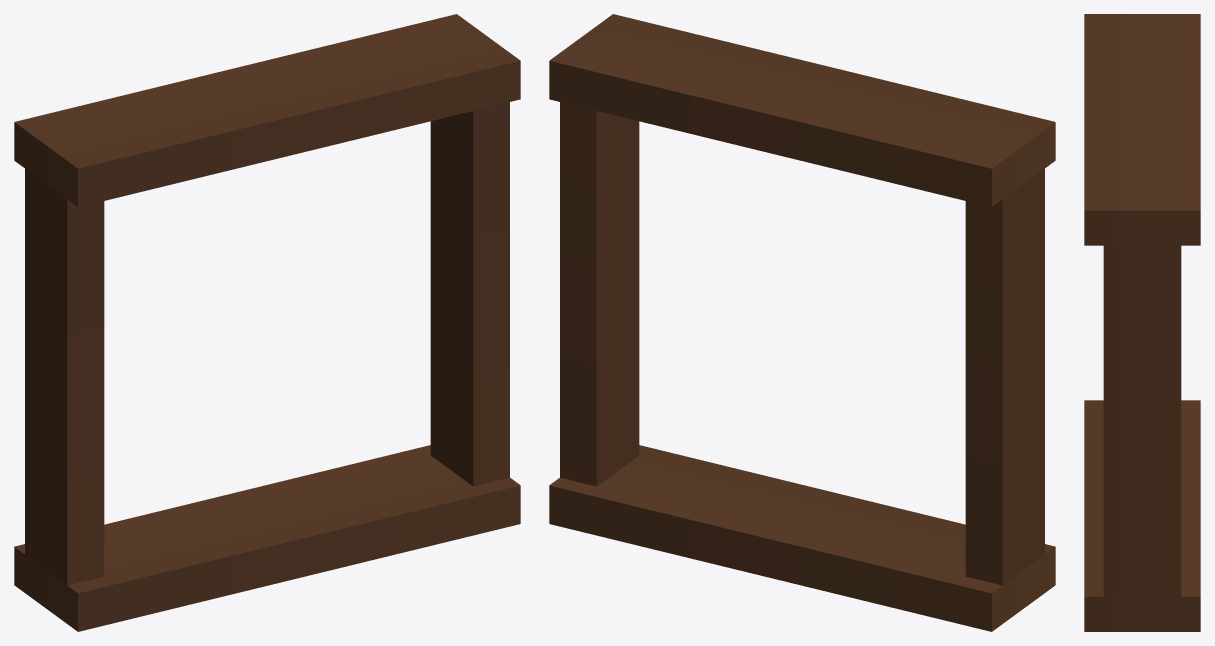
Rendered from Window_Wood_Frame_01.fbx.
3 renders of one model, left to right at view 1: azimuth 30°, elevation 25°; view 2: azimuth 150°, elevation 25°; view 3: azimuth 270°, elevation 25°, orthographic. The views are drawn at different scales.
Visible parts, largest first — view 1: Window_Wood_Frame_01, Window_Wood_Frame_01.001; view 2: Window_Wood_Frame_01, Window_Wood_Frame_01.001; view 3: Window_Wood_Frame_01, Window_Wood_Frame_01.001.
Boxes of the visible parts, bbox=[...] form: Window_Wood_Frame_01: bbox=[14, 14, 520, 631]; Window_Wood_Frame_01.001: bbox=[25, 102, 509, 585]; Window_Wood_Frame_01: bbox=[549, 14, 1055, 631]; Window_Wood_Frame_01.001: bbox=[560, 102, 1044, 585]; Window_Wood_Frame_01: bbox=[1084, 14, 1200, 631]; Window_Wood_Frame_01.001: bbox=[1103, 245, 1181, 596].
Bounding box in the file's own units: 1.2 × 1.2 × 0.3.
